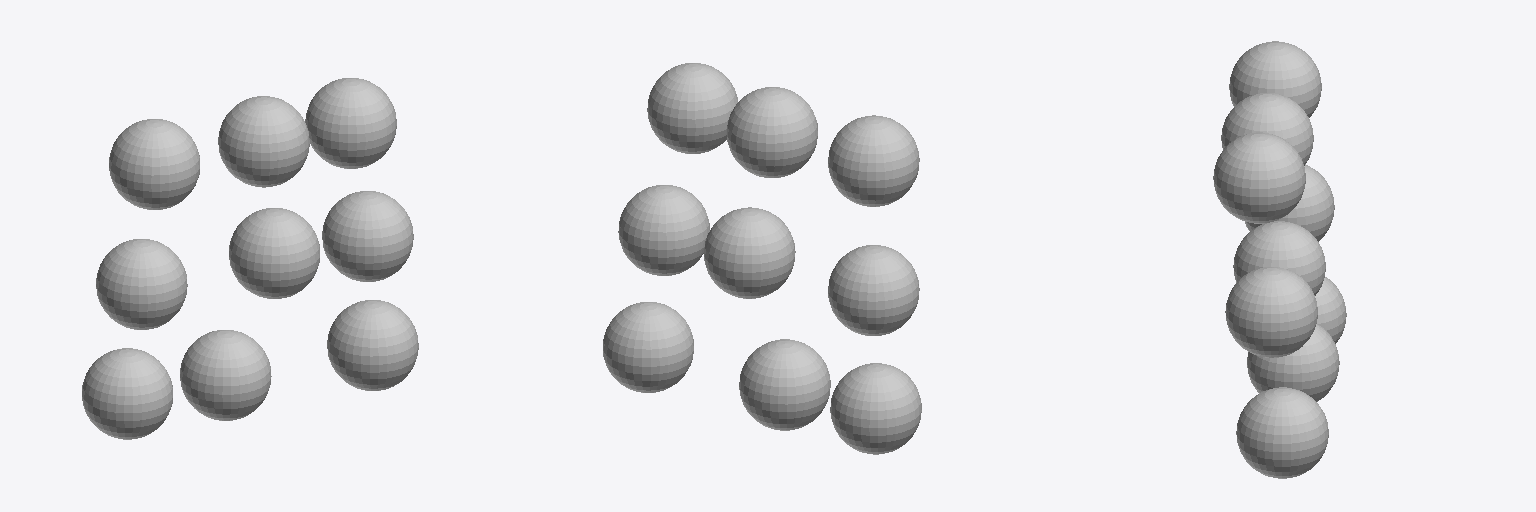
Rendered from balls_br.obj.
3 views of the same model, side by side, from view 1: azimuth 30°, elevation 25°; view 2: azimuth 150°, elevation 25°; view 3: azimuth 270°, elevation 25° (orthographic).
Visible parts, largest first — view 1: Ball.006_Sphere.007, Ball.001_Sphere.002, Ball.008_Sphere.009, Ball.003_Sphere.004, Ball_Sphere, Ball.004_Sphere.005, Ball.005_Sphere.006, Ball.007_Sphere.008, Ball.002_Sphere.003; view 2: Ball.007_Sphere.008, Ball.006_Sphere.007, Ball_Sphere, Ball.004_Sphere.005, Ball.001_Sphere.002, Ball.005_Sphere.006, Ball.008_Sphere.009, Ball.003_Sphere.004, Ball.002_Sphere.003; view 3: Ball.002_Sphere.003, Ball.008_Sphere.009, Ball.003_Sphere.004, Ball_Sphere, Ball.004_Sphere.005, Ball.007_Sphere.008, Ball.001_Sphere.002, Ball.005_Sphere.006, Ball.006_Sphere.007.
Boxes of the visible parts, box(x1,y1,x2,y2) form: Ball.006_Sphere.007: box(82, 348, 172, 439); Ball.001_Sphere.002: box(218, 96, 309, 187); Ball.008_Sphere.009: box(327, 300, 418, 390); Ball.003_Sphere.004: box(322, 191, 413, 281); Ball_Sphere: box(109, 119, 199, 209); Ball.004_Sphere.005: box(229, 208, 319, 298); Ball.005_Sphere.006: box(96, 239, 187, 329); Ball.007_Sphere.008: box(180, 330, 271, 420); Ball.002_Sphere.003: box(305, 78, 396, 168); Ball.007_Sphere.008: box(739, 339, 830, 430); Ball.006_Sphere.007: box(830, 363, 921, 454); Ball_Sphere: box(828, 115, 919, 206); Ball.004_Sphere.005: box(704, 207, 795, 298); Ball.001_Sphere.002: box(727, 87, 817, 177); Ball.005_Sphere.006: box(828, 245, 919, 335); Ball.008_Sphere.009: box(603, 302, 693, 392); Ball.003_Sphere.004: box(618, 185, 709, 275); Ball.002_Sphere.003: box(647, 63, 737, 153); Ball.002_Sphere.003: box(1213, 132, 1305, 223); Ball.008_Sphere.009: box(1236, 387, 1328, 478); Ball.003_Sphere.004: box(1225, 267, 1317, 357); Ball_Sphere: box(1229, 41, 1321, 117); Ball.004_Sphere.005: box(1233, 221, 1325, 295); Ball.007_Sphere.008: box(1247, 324, 1339, 401); Ball.001_Sphere.002: box(1221, 93, 1313, 165); Ball.005_Sphere.006: box(1245, 164, 1334, 241); Ball.006_Sphere.007: box(1315, 277, 1346, 343).
Bounding box in the file's own units: 3.34 × 3.25 × 1.22.